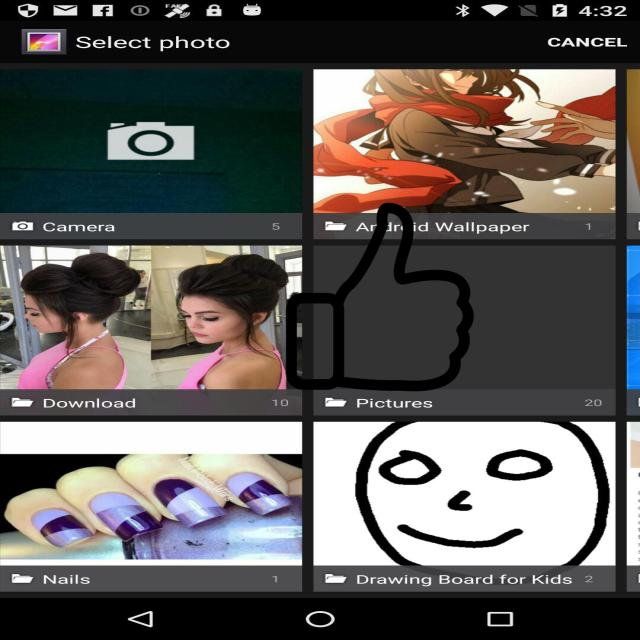privacy zuckering: (284, 203, 476, 391)
